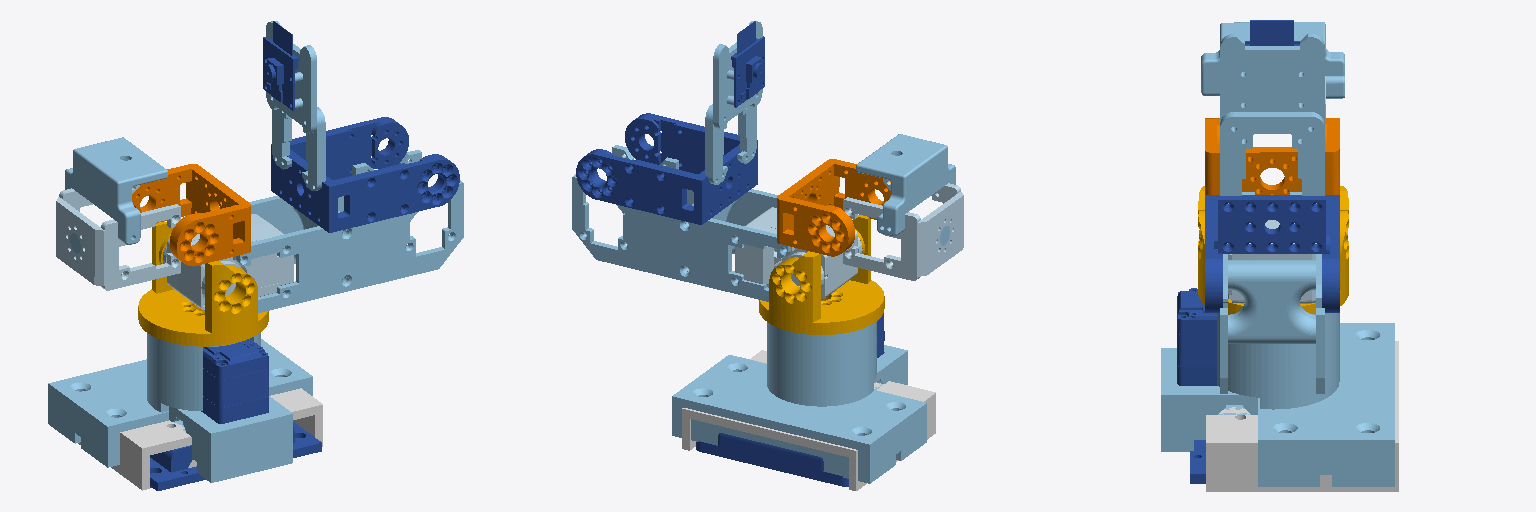
URDF robot description (LowCostRobot):
<?xml version="1.0" ?>
<!-- Generated using onshape-to-robot -->
<!-- Onshape document_id: 73ae15d12d6cfeb3ebb081f7 / workspace_id: 9f55585b9d1962741f0011d2 -->
<robot name="LowCostRobot">
  <!-- Link base -->
  <link name="base_link">
    <inertial>
      <origin xyz="-0.000254804 -0.00992594 0.0269288" rpy="0 0 0"/>
      <mass value="0.0306426"/>
      <inertia ixx="1.91493e-05" ixy="-1.39799e-08" ixz="-5.18631e-09" iyy="1.5403e-05" iyz="2.79349e-06" izz="2.10625e-05"/>
    </inertial>
    <!-- Part baserobots -->
    <visual>
      <origin xyz="-0.000260741 0.0001 -0.007587" rpy="1.21197e-15 1.07352e-16 -1.33227e-15"/>
      <geometry>
        <mesh filename="assets/baserobots.stl"/>
      </geometry>
      <material name="baserobots_material">
        <color rgba="0.231373 0.380392 0.705882 1"/>
      </material>
    </visual>
    <collision>
      <origin xyz="-0.000260741 0.0001 -0.007587" rpy="1.21197e-15 1.07352e-16 -1.33227e-15"/>
      <geometry>
        <mesh filename="assets/baserobots.stl"/>
      </geometry>
    </collision>
    <!-- Part acople_base -->
    <visual>
      <origin xyz="-0.000167866 -0.0313222 -0.00270539" rpy="1.20474e-15 4.66571e-15 -1.33227e-15"/>
      <geometry>
        <mesh filename="assets/acople_base.stl"/>
      </geometry>
      <material name="acople_base_material">
        <color rgba="0.917647 0.917647 0.917647 1"/>
      </material>
    </visual>
    <collision>
      <origin xyz="-0.000167866 -0.0313222 -0.00270539" rpy="1.20474e-15 4.66571e-15 -1.33227e-15"/>
      <geometry>
        <mesh filename="assets/acople_base.stl"/>
      </geometry>
    </collision>
    <!-- Part base_1 -->
    <visual>
      <origin xyz="-0.000266606 0.0123541 0.0117946" rpy="1.50031e-16 4.66571e-15 -1.33227e-15"/>
      <geometry>
        <mesh filename="assets/base_1.stl"/>
      </geometry>
      <material name="base_1_material">
        <color rgba="0.615686 0.811765 0.929412 1"/>
      </material>
    </visual>
    <collision>
      <origin xyz="-0.000266606 0.0123541 0.0117946" rpy="1.50031e-16 4.66571e-15 -1.33227e-15"/>
      <geometry>
        <mesh filename="assets/base_1.stl"/>
      </geometry>
    </collision>
    <!-- Part base_0 -->
    <visual>
      <origin xyz="-0.000266606 0.0123541 -0.00320539" rpy="1.50031e-16 4.66571e-15 -1.33227e-15"/>
      <geometry>
        <mesh filename="assets/base_0.stl"/>
      </geometry>
      <material name="base_0_material">
        <color rgba="0.615686 0.811765 0.929412 1"/>
      </material>
    </visual>
    <collision>
      <origin xyz="-0.000266606 0.0123541 -0.00320539" rpy="1.50031e-16 4.66571e-15 -1.33227e-15"/>
      <geometry>
        <mesh filename="assets/base_0.stl"/>
      </geometry>
    </collision>
    <!-- Part bearingcase -->
    <visual>
      <origin xyz="-0.000266605 -0.00695621 0.0157946" rpy="1.50031e-16 4.66571e-15 -1.33227e-15"/>
      <geometry>
        <mesh filename="assets/bearingcase.stl"/>
      </geometry>
      <material name="bearingcase_material">
        <color rgba="0.615686 0.811765 0.929412 1"/>
      </material>
    </visual>
    <collision>
      <origin xyz="-0.000266605 -0.00695621 0.0157946" rpy="1.50031e-16 4.66571e-15 -1.33227e-15"/>
      <geometry>
        <mesh filename="assets/bearingcase.stl"/>
      </geometry>
    </collision>
    <!-- Part lx_16a_2 -->
    <visual>
      <origin xyz="-0.000266606 -0.0324139 0.0413946" rpy="-4.70041e-15 2.05542e-16 -1.5708"/>
      <geometry>
        <mesh filename="assets/lx_16a_2.stl"/>
      </geometry>
      <material name="lx_16a_2_material">
        <color rgba="0.231373 0.380392 0.705882 1"/>
      </material>
    </visual>
    <collision>
      <origin xyz="-0.000266606 -0.0324139 0.0413946" rpy="-4.70041e-15 2.05542e-16 -1.5708"/>
      <geometry>
        <mesh filename="assets/lx_16a_2.stl"/>
      </geometry>
    </collision>
  </link>
  <!-- Link link_1 -->
  <link name="link_1">
    <inertial>
      <origin xyz="0 0 0" rpy="0 0 0"/>
      <mass value="1e-09"/>
      <inertia ixx="1e-09" ixy="0" ixz="0" iyy="1e-09" iyz="0" izz="1e-09"/>
    </inertial>
    <!-- Part link_1 -->
    <visual>
      <origin xyz="0 0 -0.005" rpy="3.14159 -0 -1.10886e-32"/>
      <geometry>
        <mesh filename="assets/link_1.stl"/>
      </geometry>
      <material name="link_1_material">
        <color rgba="0.980392 0.713725 0.00392157 1"/>
      </material>
    </visual>
    <collision>
      <origin xyz="0 0 -0.005" rpy="3.14159 -0 -1.10886e-32"/>
      <geometry>
        <mesh filename="assets/link_1.stl"/>
      </geometry>
    </collision>
  </link>
  <!-- Link bicep -->
  <link name="bicep">
    <inertial>
      <origin xyz="0 0 0" rpy="0 0 0"/>
      <mass value="1e-09"/>
      <inertia ixx="1e-09" ixy="0" ixz="0" iyy="1e-09" iyz="0" izz="1e-09"/>
    </inertial>
    <!-- Part ceparador_bisep -->
    <visual>
      <origin xyz="0.0583341 5.55112e-17 -0.0181" rpy="-1.5708 -1.18179e-14 4.06576e-20"/>
      <geometry>
        <mesh filename="assets/ceparador_bisep.stl"/>
      </geometry>
      <material name="ceparador_bisep_material">
        <color rgba="0.615686 0.811765 0.929412 1"/>
      </material>
    </visual>
    <collision>
      <origin xyz="0.0583341 5.55112e-17 -0.0181" rpy="-1.5708 -1.18179e-14 4.06576e-20"/>
      <geometry>
        <mesh filename="assets/ceparador_bisep.stl"/>
      </geometry>
    </collision>
    <!-- Part bicepplate_a -->
    <visual>
      <origin xyz="0.0990841 0.0325 -0.0341" rpy="-3.14159 1.09297e-14 3.14159"/>
      <geometry>
        <mesh filename="assets/bicepplate_a.stl"/>
      </geometry>
      <material name="bicepplate_a_material">
        <color rgba="0.615686 0.811765 0.929412 1"/>
      </material>
    </visual>
    <collision>
      <origin xyz="0.0990841 0.0325 -0.0341" rpy="-3.14159 1.09297e-14 3.14159"/>
      <geometry>
        <mesh filename="assets/bicepplate_a.stl"/>
      </geometry>
    </collision>
    <!-- Part bicepplate_b -->
    <visual>
      <origin xyz="0.0990841 0.0325 0.00105" rpy="-3.14159 1.09297e-14 3.14159"/>
      <geometry>
        <mesh filename="assets/bicepplate_b.stl"/>
      </geometry>
      <material name="bicepplate_b_material">
        <color rgba="0.615686 0.811765 0.929412 1"/>
      </material>
    </visual>
    <collision>
      <origin xyz="0.0990841 0.0325 0.00105" rpy="-3.14159 1.09297e-14 3.14159"/>
      <geometry>
        <mesh filename="assets/bicepplate_b.stl"/>
      </geometry>
    </collision>
    <!-- Part servo_1 -->
    <visual>
      <origin xyz="0.0255 0 -0.0085" rpy="0 -7.10228e-31 0"/>
      <geometry>
        <mesh filename="assets/servo_1.stl"/>
      </geometry>
      <material name="servo_1_material">
        <color rgba="0.768627 0.886275 0.952941 1"/>
      </material>
    </visual>
    <collision>
      <origin xyz="0.0255 0 -0.0085" rpy="0 -7.10228e-31 0"/>
      <geometry>
        <mesh filename="assets/servo_1.stl"/>
      </geometry>
    </collision>
    <!-- Part servo_2 -->
    <visual>
      <origin xyz="0.0990841 0.00126148 -0.0085" rpy="1.38221e-14 -5.95911e-15 -1.5708"/>
      <geometry>
        <mesh filename="assets/servo_2.stl"/>
      </geometry>
      <material name="servo_2_material">
        <color rgba="0.768627 0.886275 0.952941 1"/>
      </material>
    </visual>
    <collision>
      <origin xyz="0.0990841 0.00126148 -0.0085" rpy="1.38221e-14 -5.95911e-15 -1.5708"/>
      <geometry>
        <mesh filename="assets/servo_2.stl"/>
      </geometry>
    </collision>
  </link>
  <!-- Link forearm_elbow -->
  <link name="forearm_elbow">
    <inertial>
      <origin xyz="0 0 0" rpy="0 0 0"/>
      <mass value="1e-09"/>
      <inertia ixx="1e-09" ixy="0" ixz="0" iyy="1e-09" iyz="0" izz="1e-09"/>
    </inertial>
    <!-- Part f1_bracket -->
    <visual>
      <origin xyz="0.00500121 0.052478 -0.000897836" rpy="1.5708 4.74454e-19 0"/>
      <geometry>
        <mesh filename="assets/f1_bracket.stl"/>
      </geometry>
      <material name="f1_bracket_material">
        <color rgba="0.231373 0.380392 0.705882 1"/>
      </material>
    </visual>
    <collision>
      <origin xyz="0.00500121 0.052478 -0.000897836" rpy="1.5708 4.74454e-19 0"/>
      <geometry>
        <mesh filename="assets/f1_bracket.stl"/>
      </geometry>
    </collision>
    <!-- Part servo_5 -->
    <visual>
      <origin xyz="-0.0254982 0.080678 0.0181" rpy="1.5708 -4.74454e-19 -3.14159"/>
      <geometry>
        <mesh filename="assets/servo_5.stl"/>
      </geometry>
      <material name="servo_5_material">
        <color rgba="0.768627 0.886275 0.952941 1"/>
      </material>
    </visual>
    <collision>
      <origin xyz="-0.0254982 0.080678 0.0181" rpy="1.5708 -4.74454e-19 -3.14159"/>
      <geometry>
        <mesh filename="assets/servo_5.stl"/>
      </geometry>
    </collision>
    <!-- Part spacer_1 -->
    <visual>
      <origin xyz="0.00574035 0.051078 0.0181" rpy="1.5708 1.5708 0"/>
      <geometry>
        <mesh filename="assets/spacer_1.stl"/>
      </geometry>
      <material name="spacer_1_material">
        <color rgba="0.615686 0.811765 0.929412 1"/>
      </material>
    </visual>
    <collision>
      <origin xyz="0.00574035 0.051078 0.0181" rpy="1.5708 1.5708 0"/>
      <geometry>
        <mesh filename="assets/spacer_1.stl"/>
      </geometry>
    </collision>
  </link>
  <!-- Link f2_bracket -->
  <link name="f2_bracket">
    <inertial>
      <origin xyz="0 0 0" rpy="0 0 0"/>
      <mass value="1e-09"/>
      <inertia ixx="1e-09" ixy="0" ixz="0" iyy="1e-09" iyz="0" izz="1e-09"/>
    </inertial>
    <!-- Part f2_bracket -->
    <visual>
      <origin xyz="0.00500055 0.0189978 1.73472e-18" rpy="-3.14159 3.15544e-30 -8.67362e-19"/>
      <geometry>
        <mesh filename="assets/f2_bracket.stl"/>
      </geometry>
      <material name="f2_bracket_material">
        <color rgba="0.972549 0.529412 0.00392157 1"/>
      </material>
    </visual>
    <collision>
      <origin xyz="0.00500055 0.0189978 1.73472e-18" rpy="-3.14159 3.15544e-30 -8.67362e-19"/>
      <geometry>
        <mesh filename="assets/f2_bracket.stl"/>
      </geometry>
    </collision>
  </link>
  <!-- Link wrist_1 -->
  <link name="wrist_1">
    <inertial>
      <origin xyz="0 0 0" rpy="0 0 0"/>
      <mass value="1e-09"/>
      <inertia ixx="1e-09" ixy="0" ixz="0" iyy="1e-09" iyz="0" izz="1e-09"/>
    </inertial>
    <!-- Part camera_gripper -->
    <visual>
      <origin xyz="0.03265 0.0223974 -0.0181" rpy="1.5708 -7.51003e-16 3.14159"/>
      <geometry>
        <mesh filename="assets/camera_gripper.stl"/>
      </geometry>
      <material name="camera_gripper_material">
        <color rgba="0.615686 0.811765 0.929412 1"/>
      </material>
    </visual>
    <collision>
      <origin xyz="0.03265 0.0223974 -0.0181" rpy="1.5708 -7.51003e-16 3.14159"/>
      <geometry>
        <mesh filename="assets/camera_gripper.stl"/>
      </geometry>
    </collision>
    <!-- Part servo_3 -->
    <visual>
      <origin xyz="0.0255 1.38778e-17 -0.0277" rpy="3.14159 2.02146e-30 0"/>
      <geometry>
        <mesh filename="assets/servo_3.stl"/>
      </geometry>
      <material name="servo_3_material">
        <color rgba="0.768627 0.886275 0.952941 1"/>
      </material>
    </visual>
    <collision>
      <origin xyz="0.0255 1.38778e-17 -0.0277" rpy="3.14159 2.02146e-30 0"/>
      <geometry>
        <mesh filename="assets/servo_3.stl"/>
      </geometry>
    </collision>
    <!-- Part hand -->
    <visual>
      <origin xyz="0.102294 -0.0991154 -0.0196431" rpy="-1.5708 2.63938e-15 1.5708"/>
      <geometry>
        <mesh filename="assets/hand.stl"/>
      </geometry>
      <material name="hand_material">
        <color rgba="0.768627 0.886275 0.952941 1"/>
      </material>
    </visual>
    <collision>
      <origin xyz="0.102294 -0.0991154 -0.0196431" rpy="-1.5708 2.63938e-15 1.5708"/>
      <geometry>
        <mesh filename="assets/hand.stl"/>
      </geometry>
    </collision>
  </link>
  <!-- Link eeff -->
  <link name="eeff">
    <inertial>
      <origin xyz="0 0 0" rpy="0 0 0"/>
      <mass value="1e-09"/>
      <inertia ixx="1e-09" ixy="0" ixz="0" iyy="1e-09" iyz="0" izz="1e-09"/>
    </inertial>
    <!-- Part eeff -->
    <visual>
      <origin xyz="0 0 0" rpy="1.5708 9.83611e-30 8.67362e-19"/>
      <geometry>
        <mesh filename="assets/eeff.stl"/>
      </geometry>
      <material name="eeff_material">
        <color rgba="0.615686 0.811765 0.929412 1"/>
      </material>
    </visual>
    <collision>
      <origin xyz="0 0 0" rpy="1.5708 9.83611e-30 8.67362e-19"/>
      <geometry>
        <mesh filename="assets/eeff.stl"/>
      </geometry>
    </collision>
  </link>
  <!-- Joint from wrist_1 to eeff -->
  <joint name="shadow_link" type="revolute">
    <origin xyz="0.0458115 4.16334e-17 -0.0181" rpy="3.14159 -1.5708 0"/>
    <parent link="wrist_1"/>
    <child link="eeff"/>
    <axis xyz="0 0 1"/>
    <limit effort="10" velocity="10" lower="0" upper="1.5708"/>
  </joint>


  <!-- Link camera_link -->
  <link name="camera_link">
    <inertial>
      <origin xyz="0 0 0" rpy="0 0 0"/>
      <mass value="1e-09"/>
      <inertia ixx="1e-09" ixy="0" ixz="0" iyy="1e-09" iyz="0" izz="1e-09"/>
    </inertial>
    <!-- Part camera_base -->
    <visual>
      <origin xyz="-0.014 -0.015 0" rpy="1.5708 9.53969e-31 0"/>
      <geometry>
        <mesh filename="assets/camera_base.stl"/>
      </geometry>
      <material name="camera_base_material">
        <color rgba="0.615686 0.811765 0.929412 1"/>
      </material>
    </visual>
    <collision>
      <origin xyz="-0.014 -0.015 0" rpy="1.5708 9.53969e-31 0"/>
      <geometry>
        <mesh filename="assets/camera_base.stl"/>
      </geometry>
    </collision>
    <!-- Part rpi_cam_v1 -->
    <visual>
      <origin xyz="-0.014 -0.0179 -0.008" rpy="3.14159 1.33227e-15 -3.70317e-18"/>
      <geometry>
        <mesh filename="assets/rpi_cam_v1.stl"/>
      </geometry>
      <material name="rpi_cam_v1_material">
        <color rgba="0.231373 0.380392 0.705882 1"/>
      </material>
    </visual>
    <collision>
      <origin xyz="-0.014 -0.0179 -0.008" rpy="3.14159 1.33227e-15 -3.70317e-18"/>
      <geometry>
        <mesh filename="assets/rpi_cam_v1.stl"/>
      </geometry>
    </collision>
  </link>

  <!-- Joint from base to link_1 -->
  <joint name="joint_base" type="revolute">
    <origin xyz="-0.000266606 -0.00691392 0.0498946" rpy="-3.14159 8.75197e-15 3.14159"/>
    <parent link="base_link"/>
    <child link="link_1"/>
    <axis xyz="0 0 1"/>
    <limit effort="10" velocity="10" lower="0" upper="3.14159"/>
  </joint>

  <!-- Joint from link_1 to bicep -->
  <joint name="joint_1" type="revolute">
    <origin xyz="-4.87891e-19 -0.01855 -0.025" rpy="-1.5708 7.5426e-15 3.14159"/>
    <parent link="link_1"/>
    <child link="bicep"/>
    <axis xyz="0 0 1"/>
    <limit effort="10" velocity="10" lower="0" upper="3.14159"/>
  </joint>

  <!-- Joint from bicep to forearm_elbow -->
  <joint name="joint_2" type="revolute">
    <origin xyz="0.0990841 0.0267615 5.68469e-14" rpy="3.14159 9.15087e-15 -1.5708"/>
    <parent link="bicep"/>
    <child link="forearm_elbow"/>
    <axis xyz="0 0 1"/>
    <limit effort="10" velocity="10" lower="0" upper="3.14159"/>
  </joint>

  <!-- Joint from forearm_elbow to f2_bracket -->
  <joint name="joint_3" type="revolute">
    <origin xyz="1.82921e-06 0.089178 0.0181" rpy="-1.5708 0.00697651 -3.14159"/>
    <parent link="forearm_elbow"/>
    <child link="f2_bracket"/>
    <axis xyz="0 0 1"/>
    <limit effort="10" velocity="10" lower="-1.57777" upper="1.56382"/>
  </joint>

  <!-- Joint from f2_bracket to wrist_1 -->
  <joint name="joint_4" type="revolute">
    <origin xyz="-3.4131e-06 -0.01855 -0.0264538" rpy="1.5708 1.5708 0"/>
    <parent link="f2_bracket"/>
    <child link="wrist_1"/>
    <axis xyz="0 0 1"/>
    <limit effort="10" velocity="10" lower="-1.5708" upper="1.5708"/>
  </joint>


  <!-- Joint from forearm_elbow to camera_link -->
  <joint name="camera_link" type="fixed">
    <origin xyz="-0.0377597 0.055078 0.0041" rpy="1.5708 1.5708 0"/>
    <parent link="forearm_elbow"/>
    <child link="camera_link"/>
    <axis xyz="0 0 1"/>
    <limit effort="10" velocity="10"/>
  </joint>



</robot>

--- What the picture shows (computed from the rendered views, not written in the file) ---
3 views of the same robot in one strip: view 1: azimuth 30°, elevation 25°; view 2: azimuth 150°, elevation 25°; view 3: azimuth 270°, elevation 25° (orthographic).
Robot: LowCostRobot — 8 links, 7 joints (6 revolute, 1 fixed); root link base_link; default pose: every joint at zero.
Visible links, largest first — view 1: base_link, bicep, forearm_elbow, wrist_1, link_1, f2_bracket, camera_link; view 2: base_link, bicep, forearm_elbow, wrist_1, link_1, f2_bracket, camera_link; view 3: base_link, forearm_elbow, bicep, camera_link, f2_bracket, wrist_1, link_1.
Link boxes in pixels (x1,y1,x2,y2): base_link: [48, 333, 322, 490]; bicep: [162, 150, 463, 312]; forearm_elbow: [271, 107, 459, 232]; wrist_1: [56, 137, 180, 290]; link_1: [138, 221, 268, 346]; f2_bracket: [132, 164, 250, 266]; camera_link: [263, 21, 316, 133]; base_link: [672, 313, 935, 490]; bicep: [572, 145, 862, 301]; forearm_elbow: [576, 104, 757, 224]; wrist_1: [843, 134, 963, 280]; link_1: [759, 215, 884, 334]; f2_bracket: [777, 159, 890, 256]; camera_link: [713, 21, 764, 129]; base_link: [1161, 288, 1398, 491]; forearm_elbow: [1205, 112, 1339, 312]; bicep: [1220, 220, 1324, 393]; camera_link: [1220, 20, 1324, 122]; f2_bracket: [1205, 118, 1339, 203]; wrist_1: [1201, 22, 1344, 117]; link_1: [1198, 186, 1348, 314].
Size in the robot's own frame: 0.1774 by 0.0865 by 0.1861 metres.
19 mesh visuals loaded from 22 distinct referenced files (19 binary STL); not drawn: 3 (reference not matched to a file when rendering).
